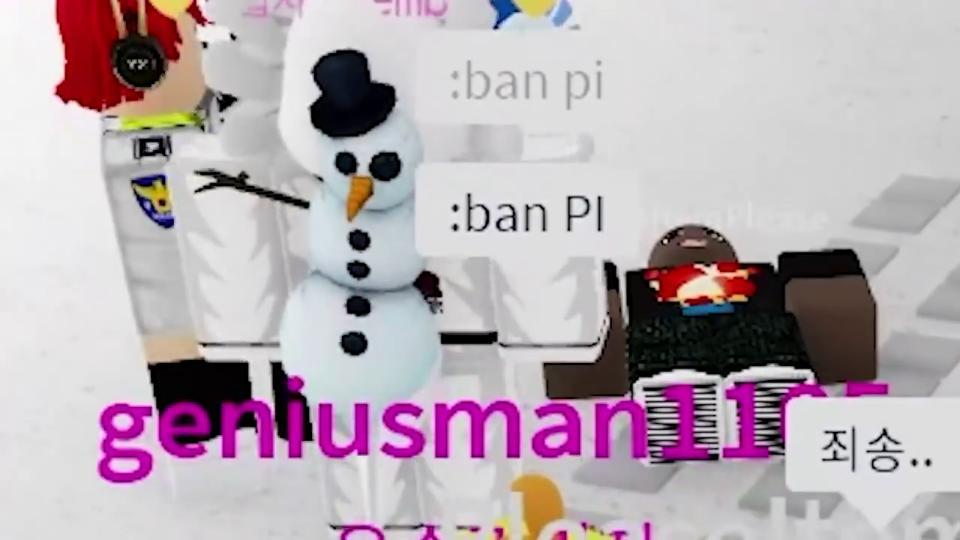Character: (166, 0, 610, 536), (54, 0, 262, 514), (541, 222, 879, 468)
